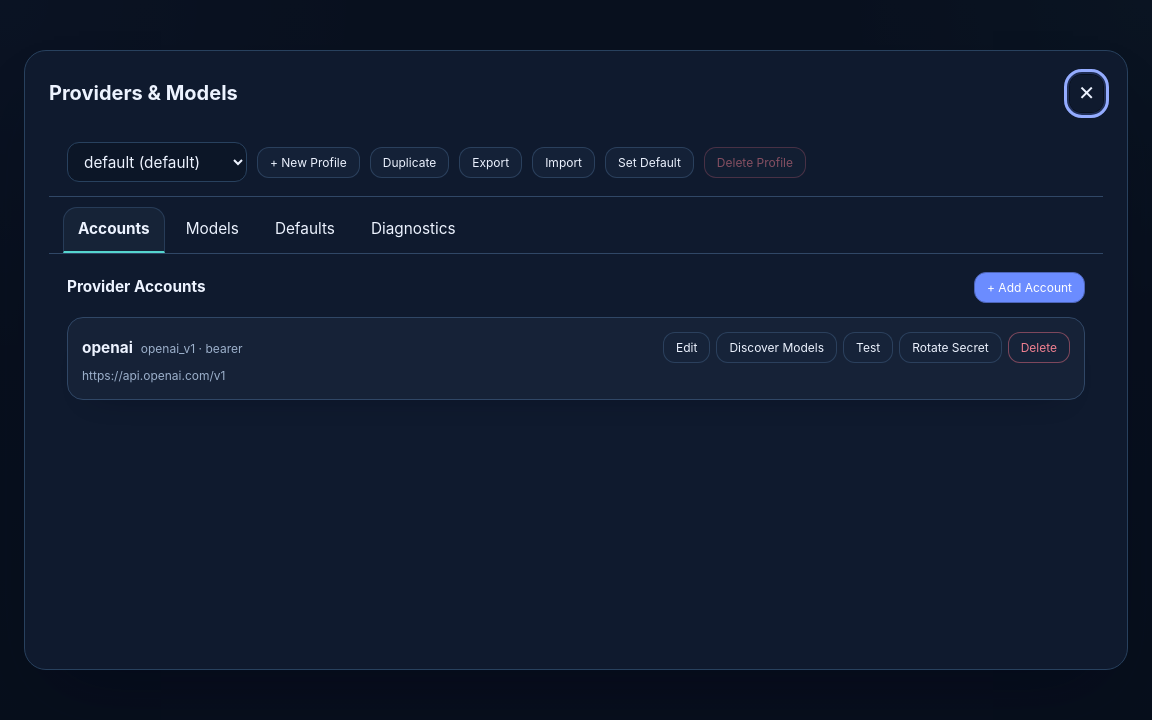
it: ProviderManagementWorkspace › shows planner-only defaults copy
Expected: the text "Provider Accounts" is shown, x1=67 y1=276 x2=206 y2=298
Step 1. Click the button "Defaults" → (305, 230), box x1=260 y1=207 x2=350 y2=253
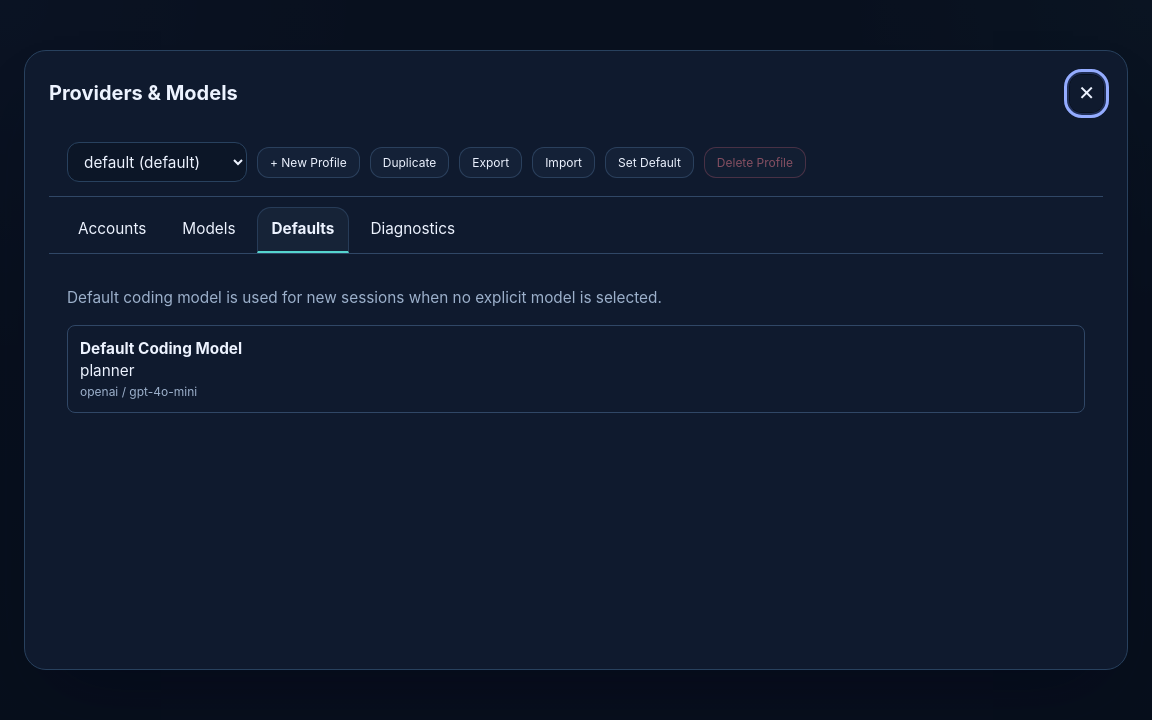
Expected: the text "Default coding model is used for new sessions when no explicit model is selected." is shown, x1=67 y1=288 x2=662 y2=307
